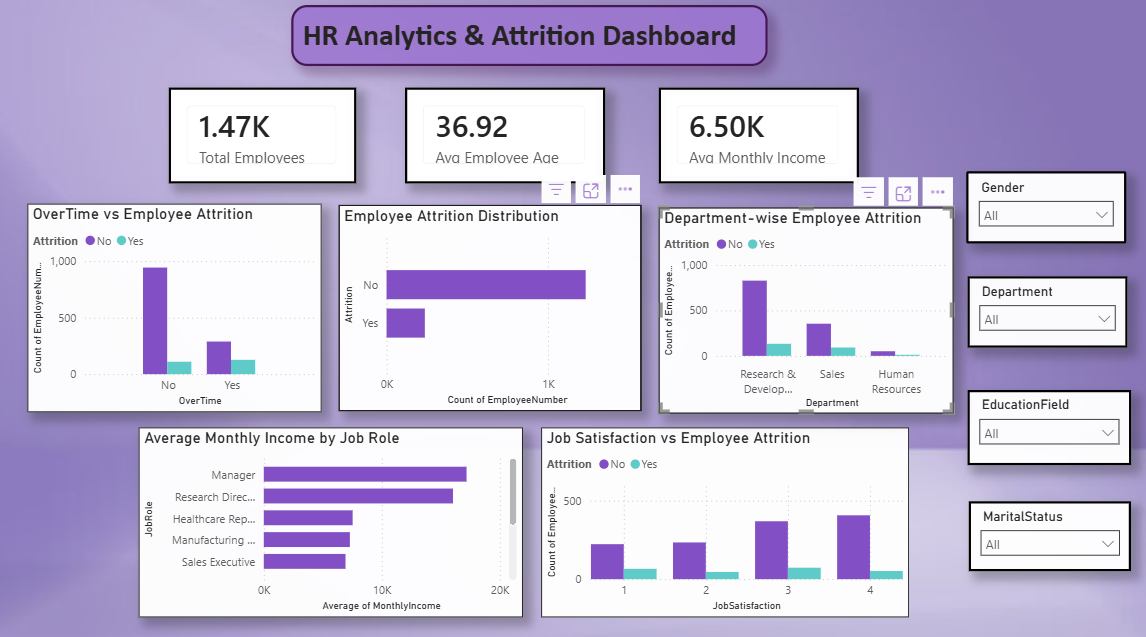

The dashboard page shown, as its layout file describes it:
{"tool":"powerbi","page":{"name":"Page 1","canvas":[1280,720],"ordinal":0},"visuals":[{"type":"cardVisual","fields":{"Data":["CountNonNull(cleaned_hr_data.EmployeeNumber)"]},"box":[224.4,126.3,201.5,103.4],"z":0},{"type":"cardVisual","fields":{"Data":["Avg(cleaned_hr_data.Age)"]},"box":[478.3,126.3,214.9,103.4],"z":1000},{"type":"cardVisual","fields":{"Data":["Avg(cleaned_hr_data.MonthlyIncome)"]},"box":[751,126.3,214.9,103.4],"z":2000},{"type":"clusteredBarChart","title":"Employee Attrition Distribution","fields":{"Y":["CountNonNull(cleaned_hr_data.EmployeeNumber)"],"Category":["cleaned_hr_data.Attrition"]},"box":[407.1,252.6,325.1,221.7],"z":3000},{"type":"clusteredColumnChart","title":"Department-wise Employee Attrition","fields":{"Category":["cleaned_hr_data.Department"],"Series":["cleaned_hr_data.Attrition"],"Y":["CountNonNull(cleaned_hr_data.EmployeeNumber)"]},"box":[751,255.2,317,221.7],"z":4000},{"type":"clusteredColumnChart","title":"OverTime vs Employee Attrition","fields":{"Category":["cleaned_hr_data.OverTime"],"Y":["CountNonNull(cleaned_hr_data.EmployeeNumber)"],"Series":["cleaned_hr_data.Attrition"]},"box":[72.5,251.2,315.7,224.4],"z":5000},{"type":"clusteredBarChart","title":"Average Monthly Income by Job Role","fields":{"Category":["cleaned_hr_data.JobRole"],"Y":["Avg(cleaned_hr_data.MonthlyIncome)"]},"box":[192.1,491.7,412.4,204.2],"z":6000},{"type":"clusteredColumnChart","title":"Job Satisfaction vs Employee Attrition","fields":{"Category":["cleaned_hr_data.JobSatisfaction"],"Series":["cleaned_hr_data.Attrition"],"Y":["CountNonNull(cleaned_hr_data.EmployeeNumber)"]},"box":[624.7,491.7,395,204.2],"z":7000},{"type":"textbox","box":[356,37.6,511.8,65.8],"z":8000},{"type":"slicer","fields":{"Values":["cleaned_hr_data.Gender"]},"box":[1081.4,216.3,172,77.9],"z":9000},{"type":"slicer","fields":{"Values":["cleaned_hr_data.Department"]},"box":[1082.8,329.1,172,76.6],"z":10000},{"type":"slicer","fields":{"Values":["cleaned_hr_data.EducationField"]},"box":[1082.8,451.4,176,80.6],"z":11000},{"type":"slicer","fields":{"Values":["cleaned_hr_data.MaritalStatus"]},"box":[1084.1,571,174.6,75.2],"z":12000}]}

Visuals, with their boxes in screenshot pixels (x1, y1, x2, y2), scaled from the page's 1280x720 canvas onto the 1146x637 screenshot:
cardVisual - CountNonNull(cleaned_hr_data.EmployeeNumber): 201:112:381:203
cardVisual - Avg(cleaned_hr_data.Age): 428:112:621:203
cardVisual - Avg(cleaned_hr_data.MonthlyIncome): 672:112:865:203
"Employee Attrition Distribution" clusteredBarChart: 364:223:656:420
"Department-wise Employee Attrition" clusteredColumnChart: 672:226:956:422
"OverTime vs Employee Attrition" clusteredColumnChart: 65:222:348:421
"Average Monthly Income by Job Role" clusteredBarChart: 172:435:541:616
"Job Satisfaction vs Employee Attrition" clusteredColumnChart: 559:435:913:616
textbox: 319:33:777:91
slicer - cleaned_hr_data.Gender: 968:191:1122:260
slicer - cleaned_hr_data.Department: 969:291:1123:359
slicer - cleaned_hr_data.EducationField: 969:399:1127:471
slicer - cleaned_hr_data.MaritalStatus: 971:505:1127:572
